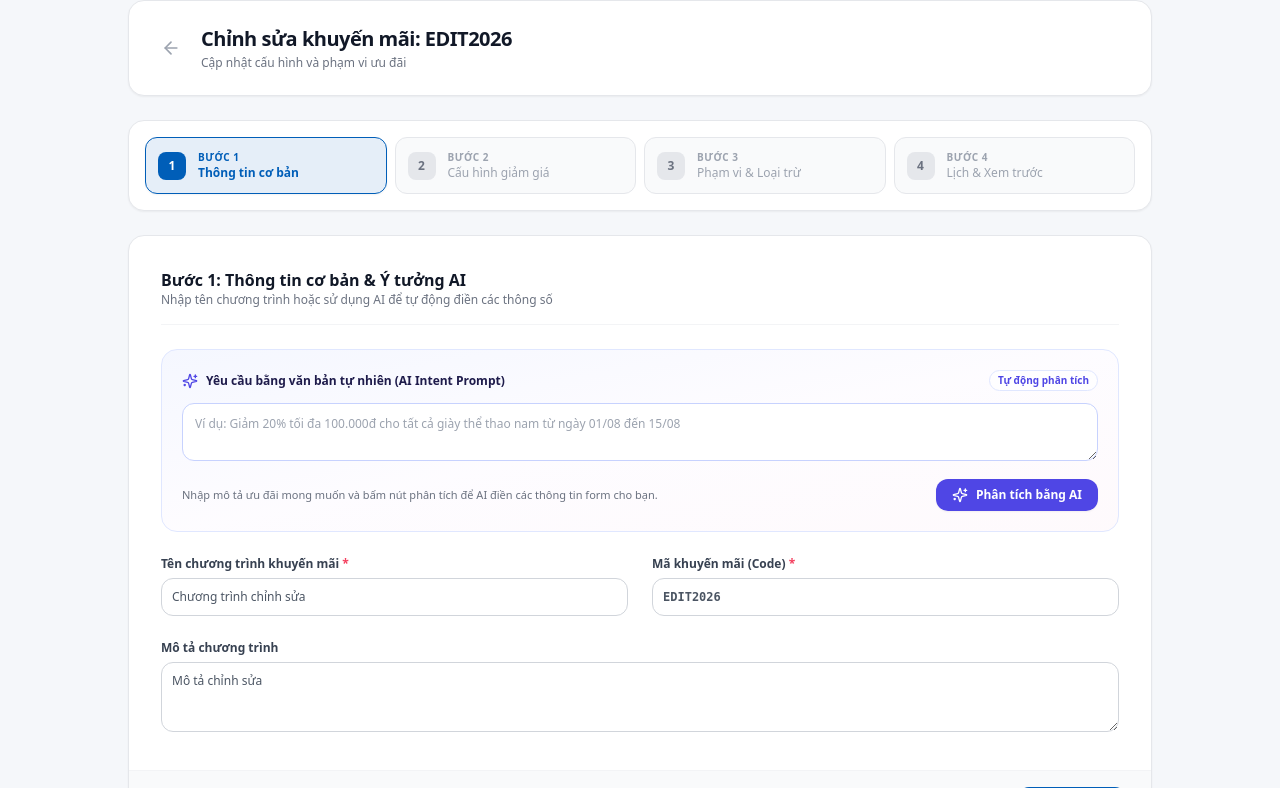
Scenario: PromotionForm Component Tests › 5. Manages scope additions in Step 3
// Jump to Step 3
Click the text "Phạm vi & Loại trừ": point(749, 173) [697,165,801,181]
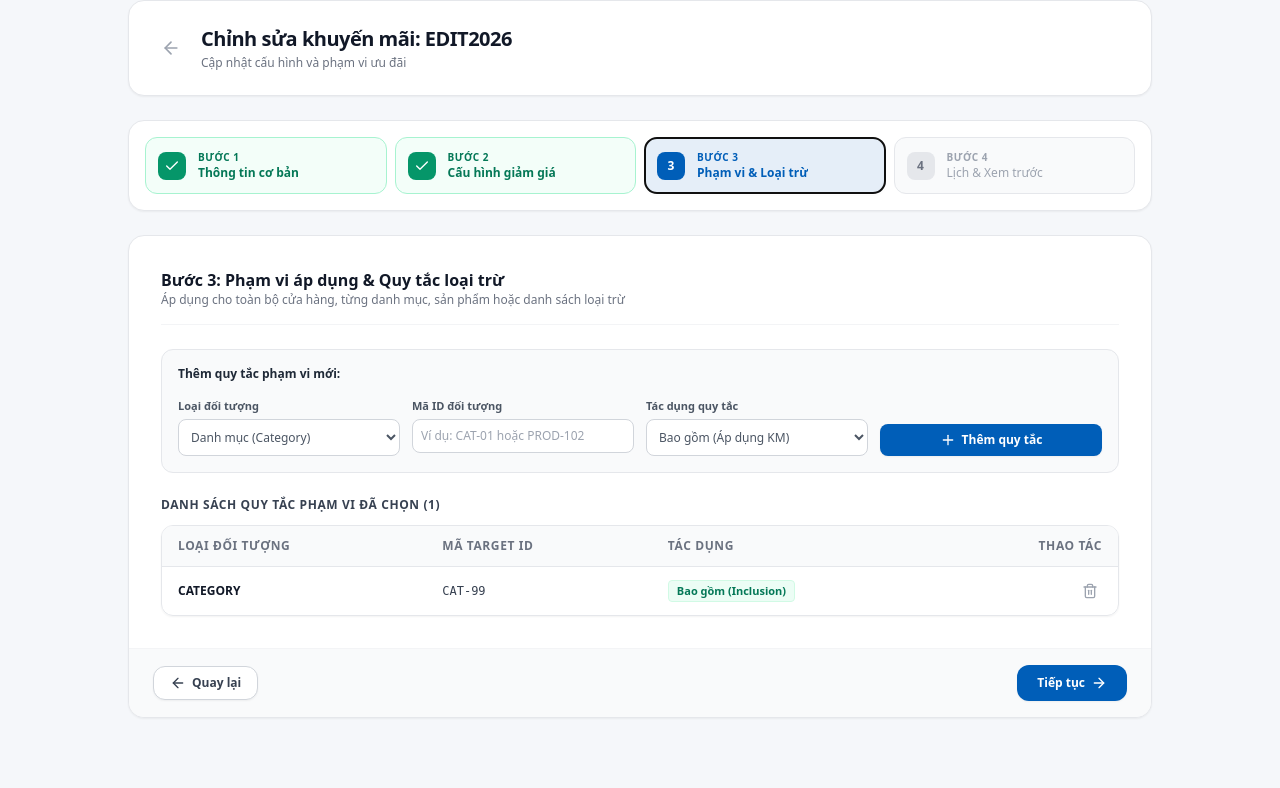
Result: the heading "Bước 3: Phạm vi áp dụng & Quy tắc loại trừ" is shown at [161,269,504,291]
In the field with placeholder "Ví dụ: CAT-01 hoặc PROD-102": point(523, 436) [412,418,634,452], type "PROD-200"
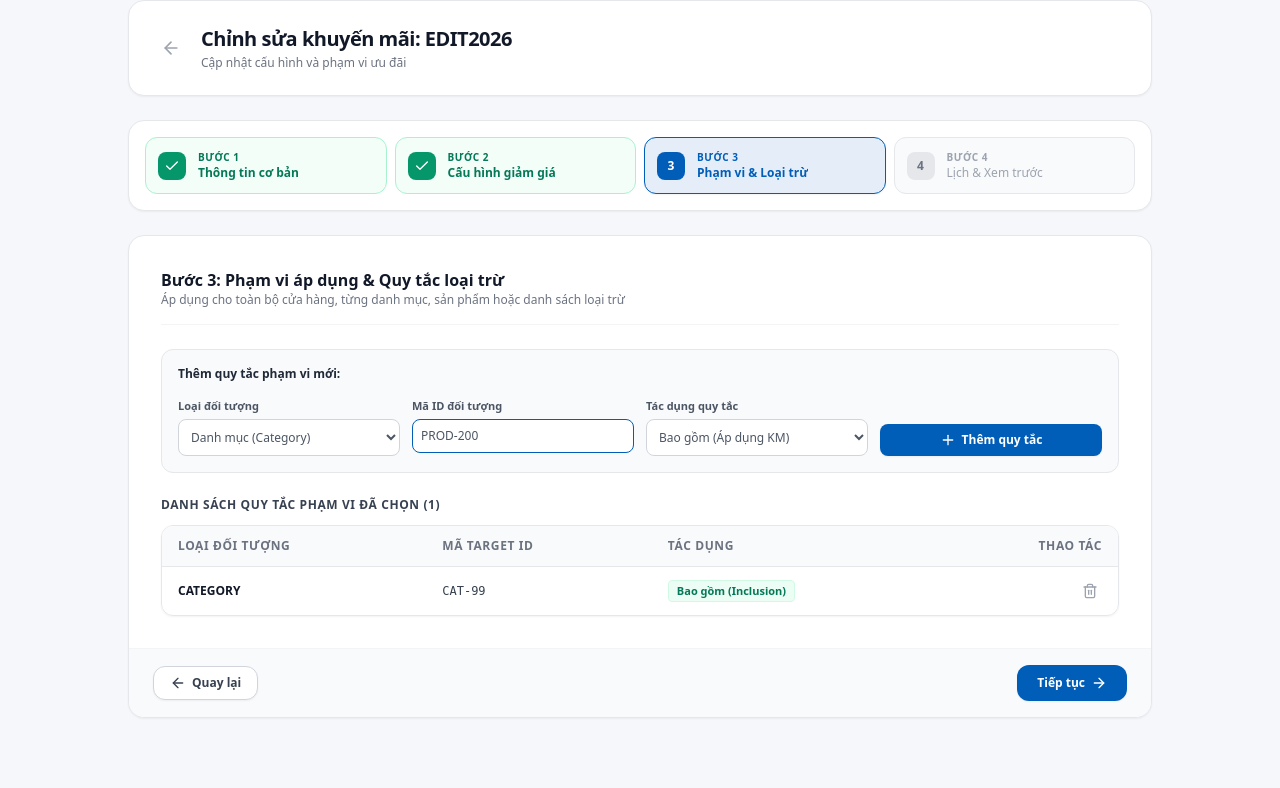
Click the button "Thêm quy tắc": point(991, 440) [880,424,1102,456]
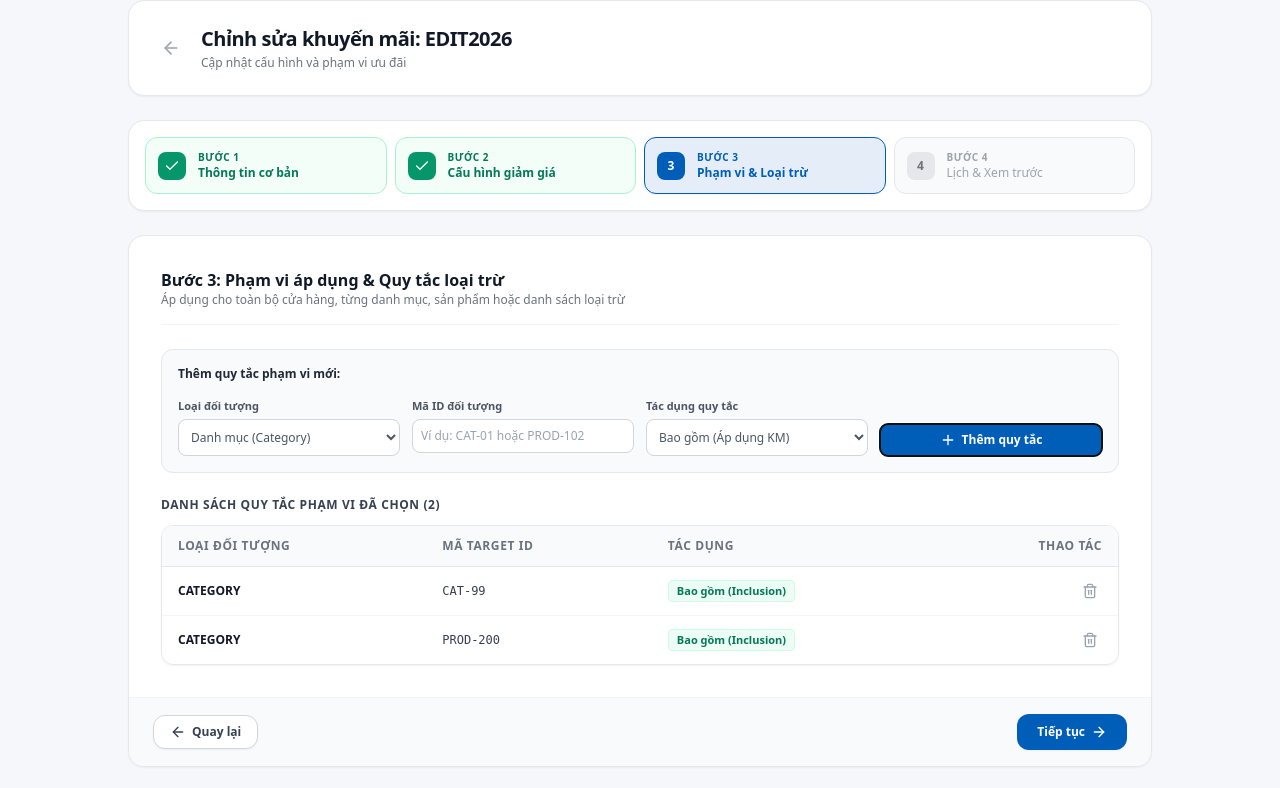
Result: the text "PROD-200" is shown at [426,615,652,664]
